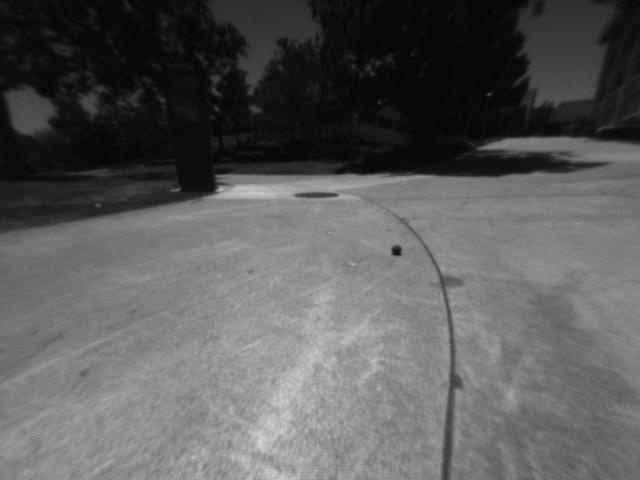dogtoy: (385, 236, 409, 262)
